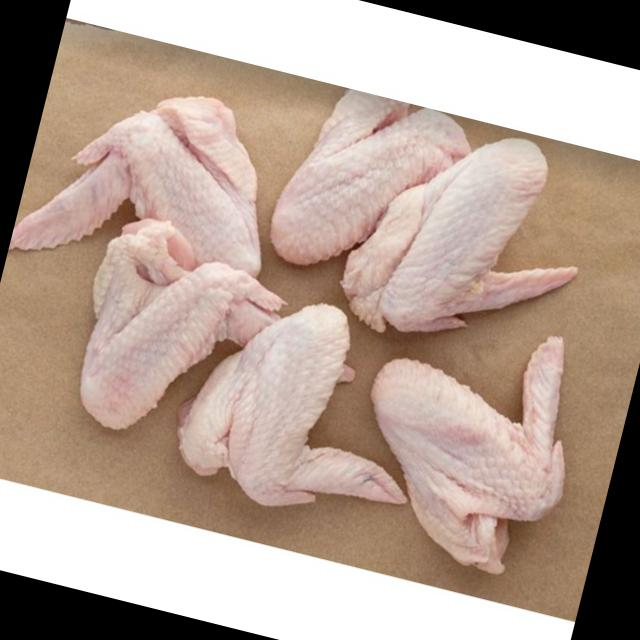Ayam: (159, 275, 445, 539), (340, 100, 610, 377), (10, 60, 296, 308), (338, 312, 596, 586), (62, 217, 296, 463), (262, 65, 469, 294)
